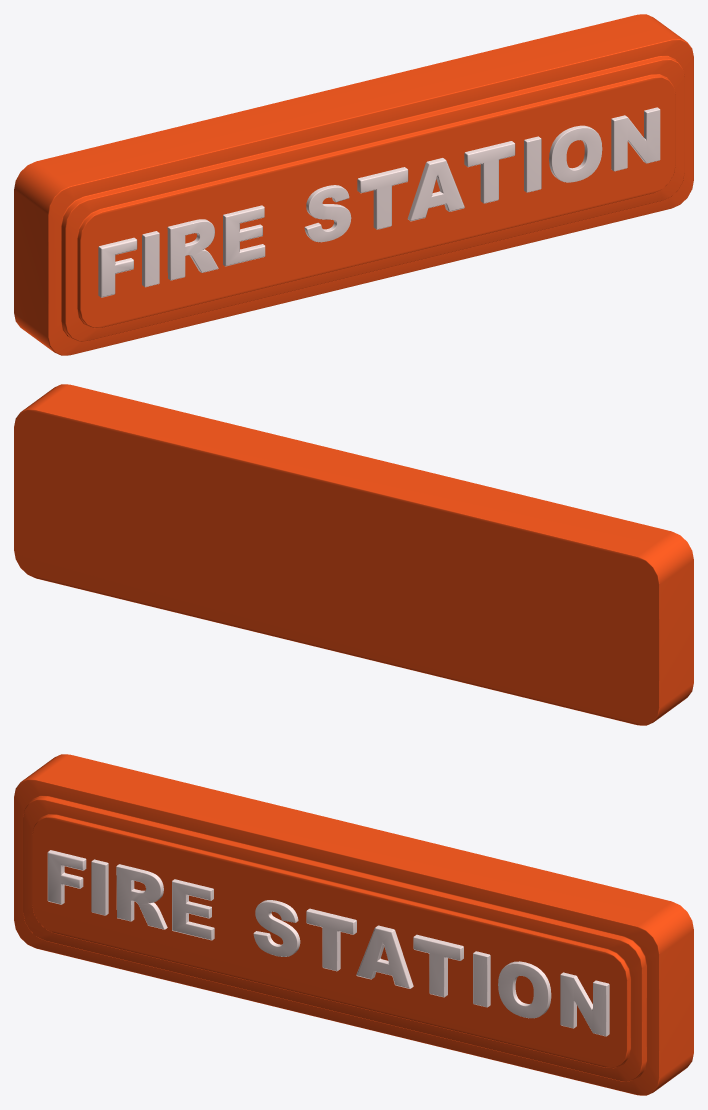
The model's file is Public_11_Fire_Station_Sign_1.glb.
3 renders of one model, top to bottom at view 1: azimuth 30°, elevation 25°; view 2: azimuth 150°, elevation 25°; view 3: azimuth 330°, elevation 25°, orthographic.
Visible parts, largest first — view 1: Public_11_Fire_Station_Sign_1; view 2: Public_11_Fire_Station_Sign_1; view 3: Public_11_Fire_Station_Sign_1.
Part boxes in pixels (left/top/right/bottom): Public_11_Fire_Station_Sign_1: left=14, top=14, right=693, bottom=355; Public_11_Fire_Station_Sign_1: left=14, top=384, right=693, bottom=725; Public_11_Fire_Station_Sign_1: left=14, top=754, right=693, bottom=1095.
Size of the model in its own units: 10.13 by 2.54 by 1.21.
1 material, 1 textured.
